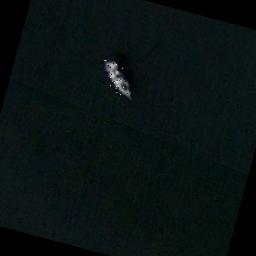boat: (96, 58, 137, 98)
